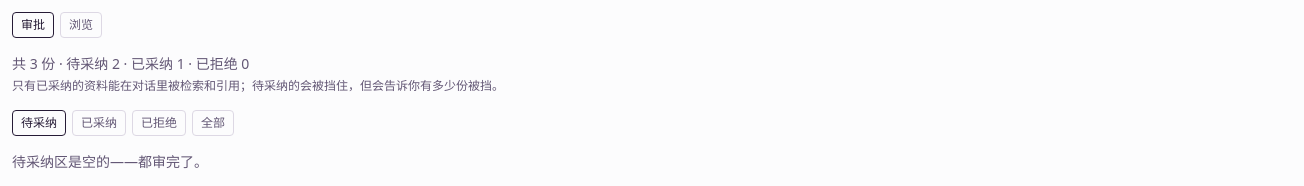
Test: TEST-448 统一浏览视图 (CR-20260915-knowledge-library-merge CP-2) › ④ 浏览列表为空时如实说明，不是留白
The image size is (1304, 186).
Click the button "浏览".
click(81, 25)  # box [60, 12, 102, 38]
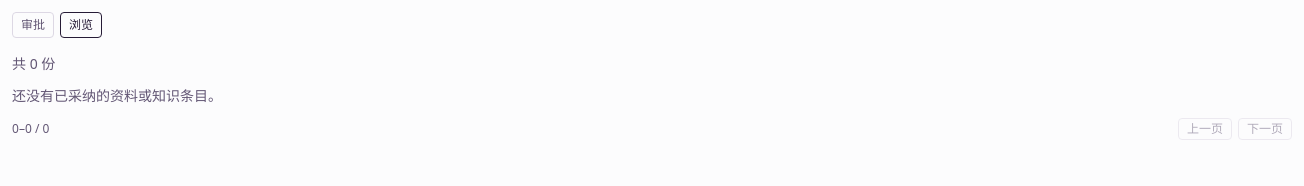
Result: the text "还没有已采纳的资料或知识条目。" is shown at [12, 86, 222, 105]
